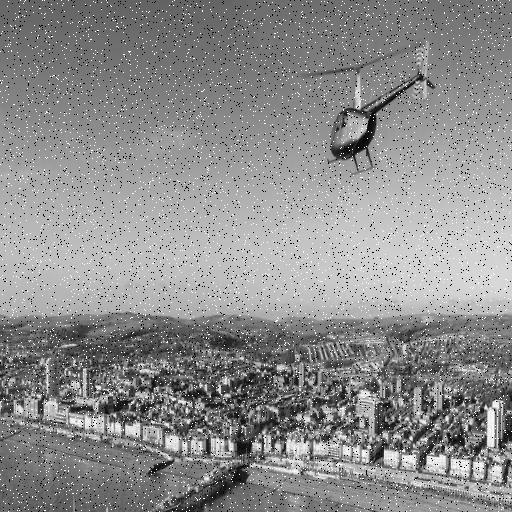helicopter: (300, 36, 440, 185)
